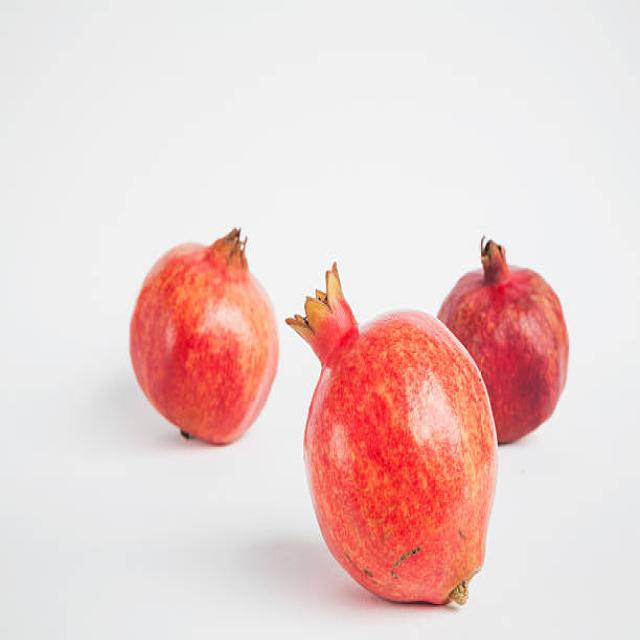Ripe: (285, 260, 503, 614), (127, 223, 281, 452), (440, 238, 570, 450)
